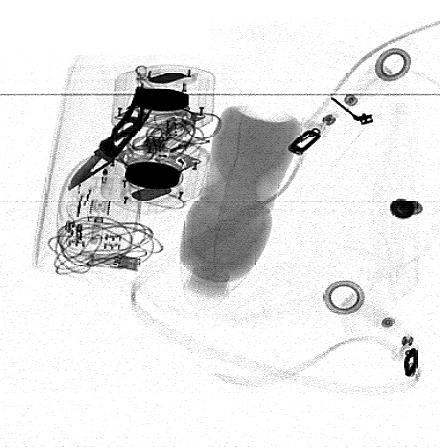Knife: (67, 86, 163, 193)
